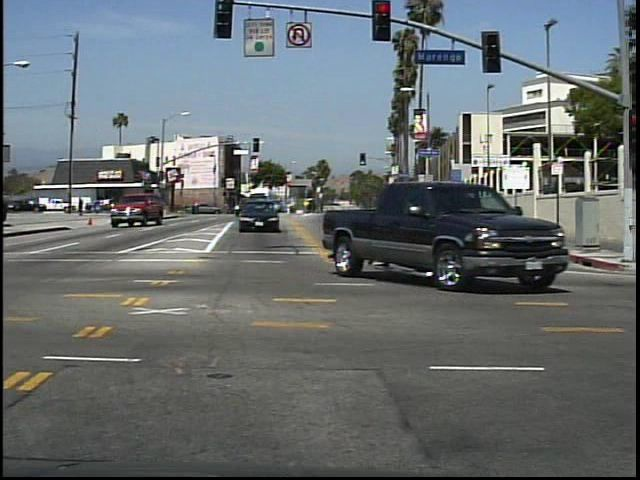person: (76, 194, 89, 219)
